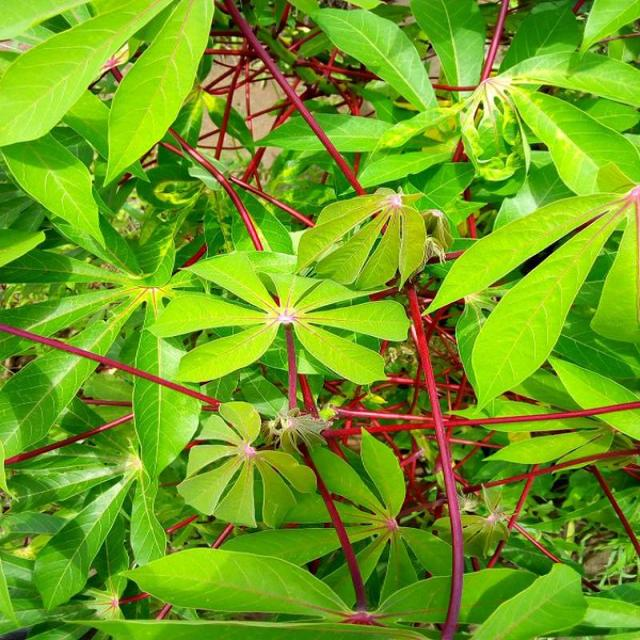cassava leaf: (1, 0, 638, 637), (146, 243, 410, 389)
